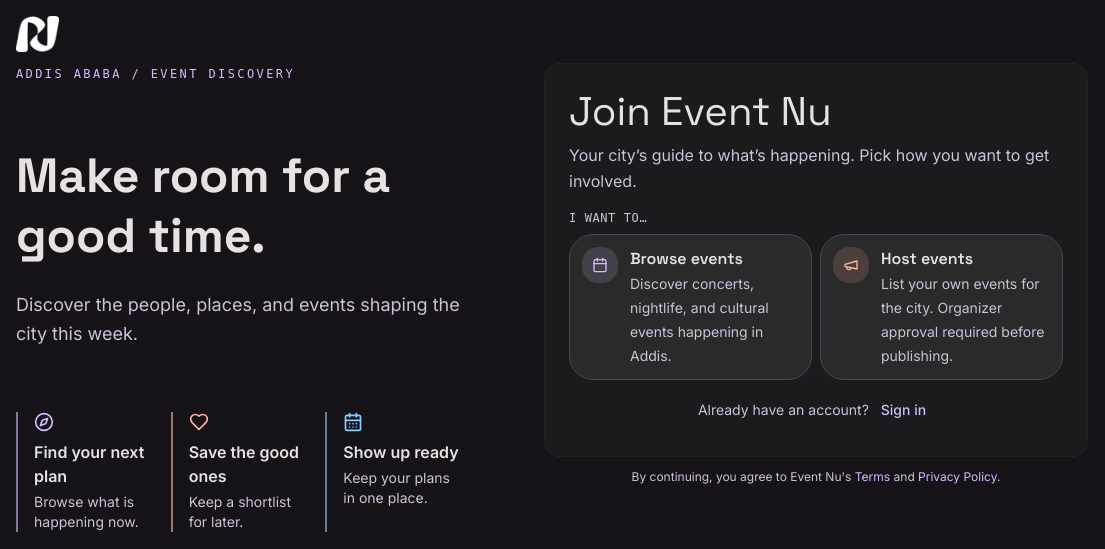
Test: AuthPage — Functional Tests › view transitions › navigates from signin back to choose view via "Create an account"
Click the button "Sign in" at (904, 410), box [873,388,934,432]
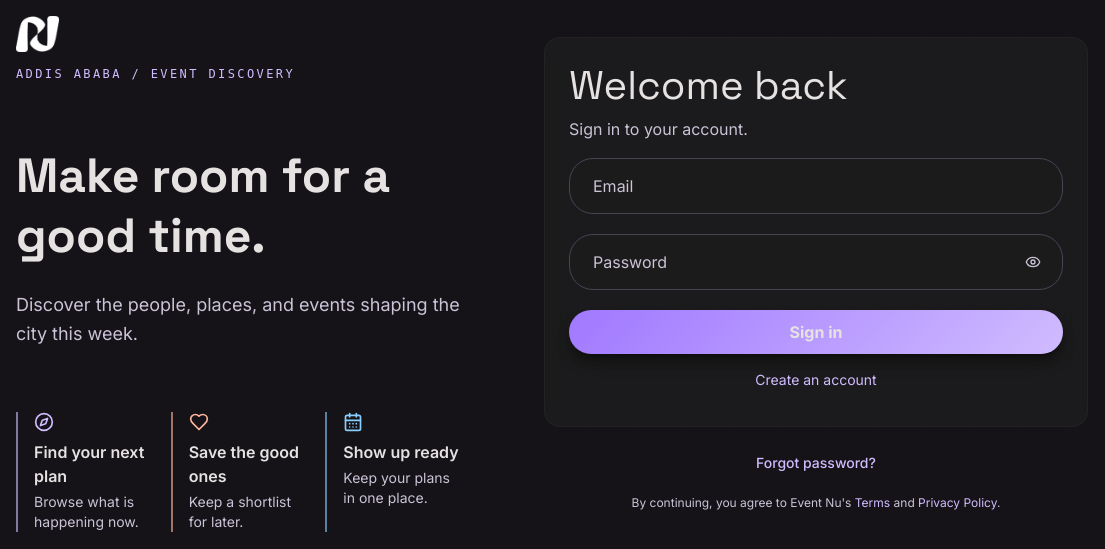
Expected: the heading "Welcome back" is shown, [569,60,848,111]
Click the button "Create an account" at (816, 380), box [747,358,885,402]
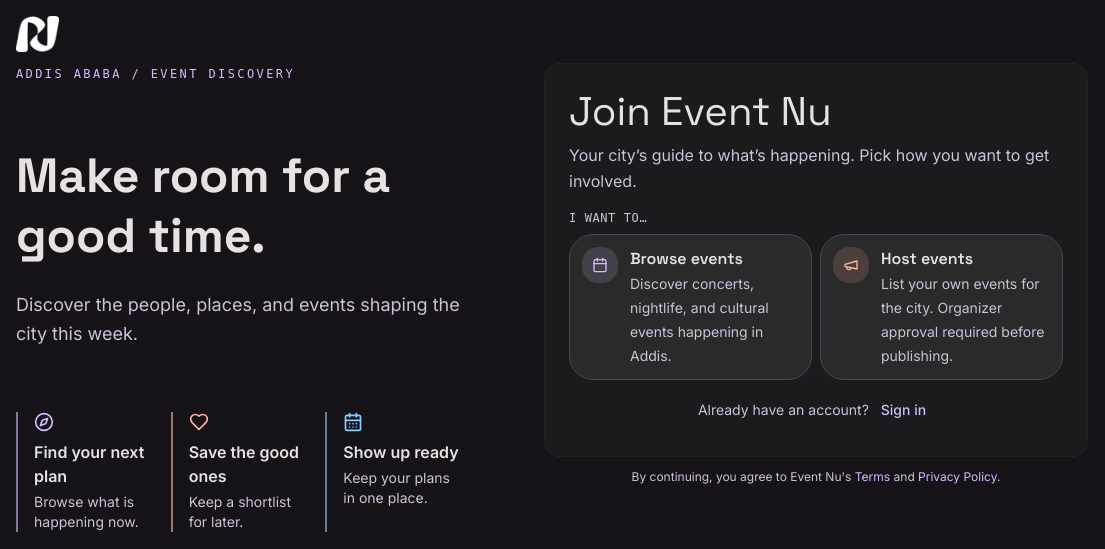
Expected: the heading "Join Event Nu" is shown, [569,86,832,137]
